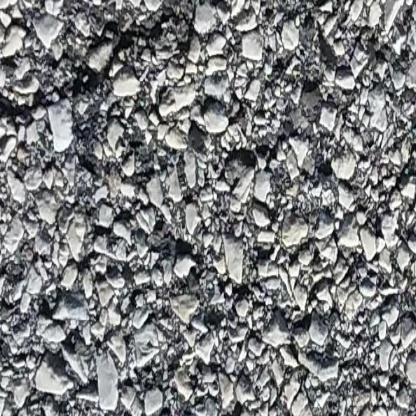Cracks: (0, 0, 237, 133), (374, 110, 416, 243)
